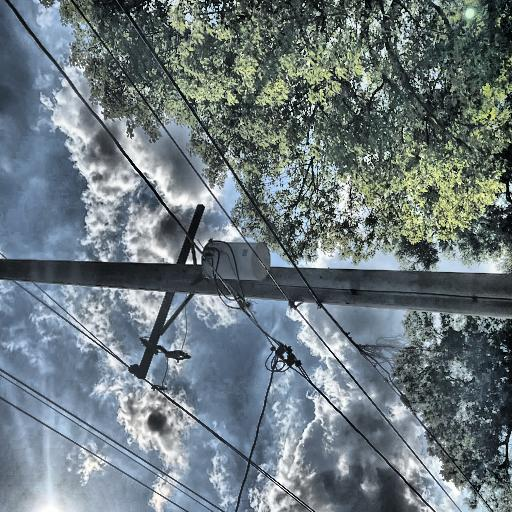insulator: (19, 256, 31, 269)
pole: (51, 0, 130, 512)
transformer: (105, 336, 144, 416)
